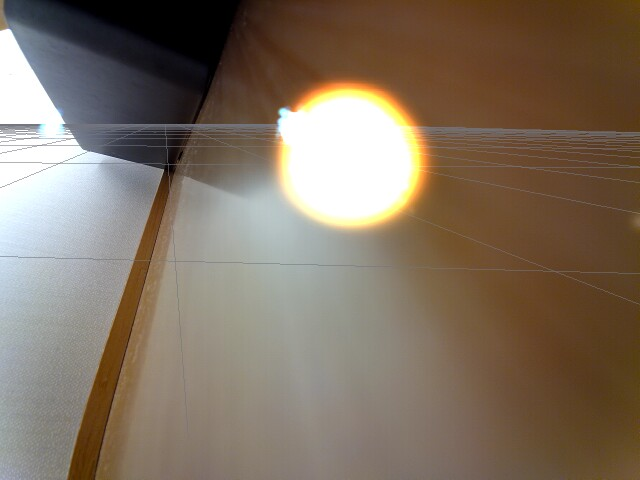firebig: (264, 71, 446, 237)
